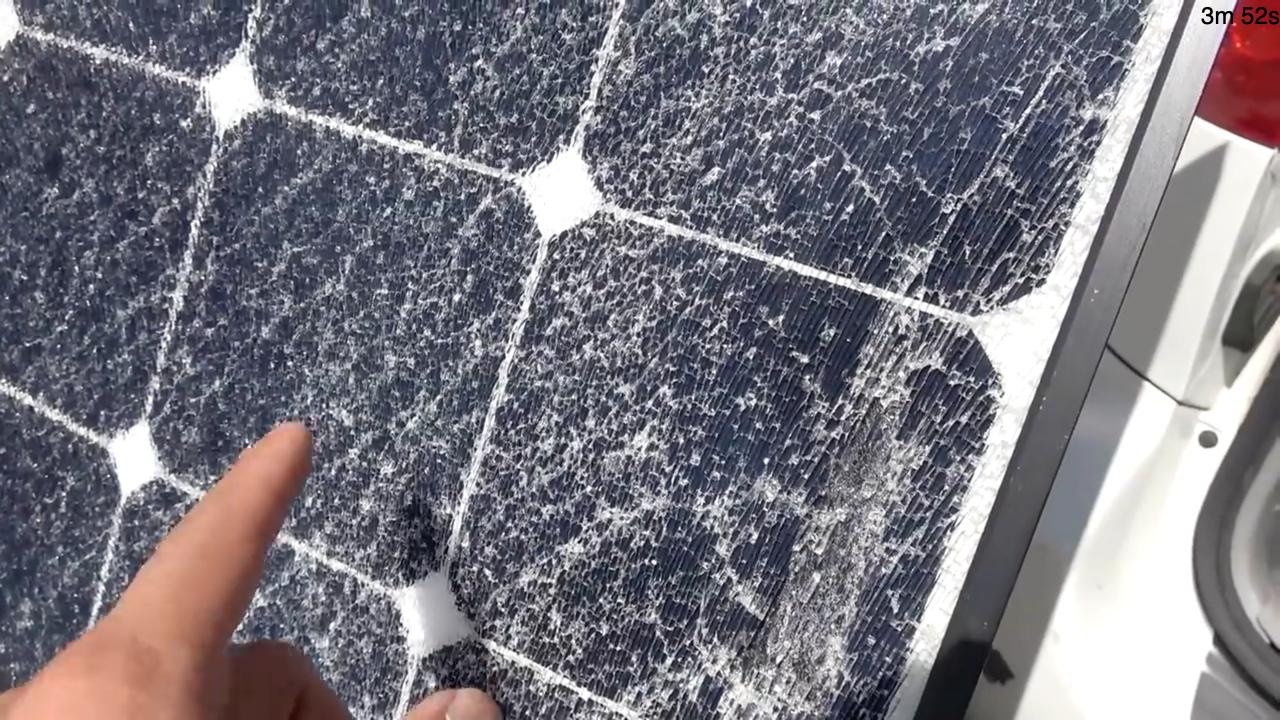Crack: (326, 0, 741, 458), (770, 252, 945, 720)
